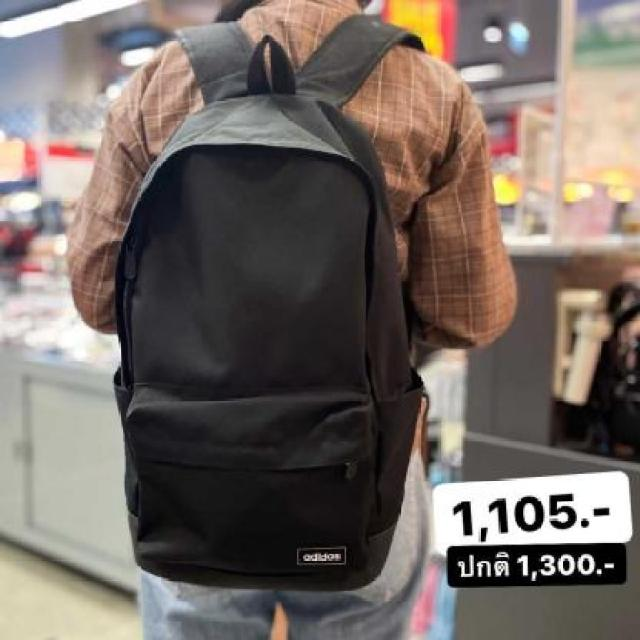Bag: (95, 34, 452, 598)
